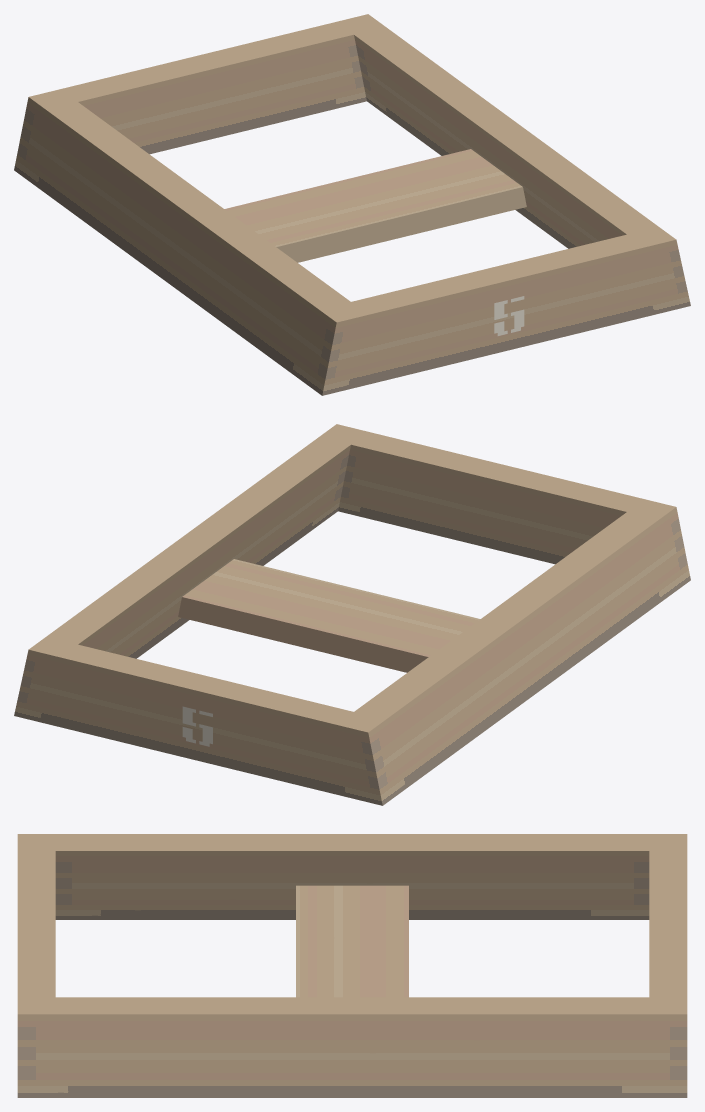
The model's file is 007b_5th_Step.glb.
3 views of the same model, one above another, from view 1: azimuth 30°, elevation 25°; view 2: azimuth 150°, elevation 25°; view 3: azimuth 270°, elevation 25° (orthographic). The views are drawn at different scales.
Parts seen in each view (by area): view 1: part_0; view 2: part_0; view 3: part_0.
Boxes of the visible parts, x1,y1,x2,y2 form: part_0: [14, 14, 690, 395]; part_0: [14, 424, 690, 805]; part_0: [17, 834, 687, 1097].
Bounding box in the file's own units: 0.5526 × 0.1 × 0.8087.
Materials: 1 (1 with a texture image).
